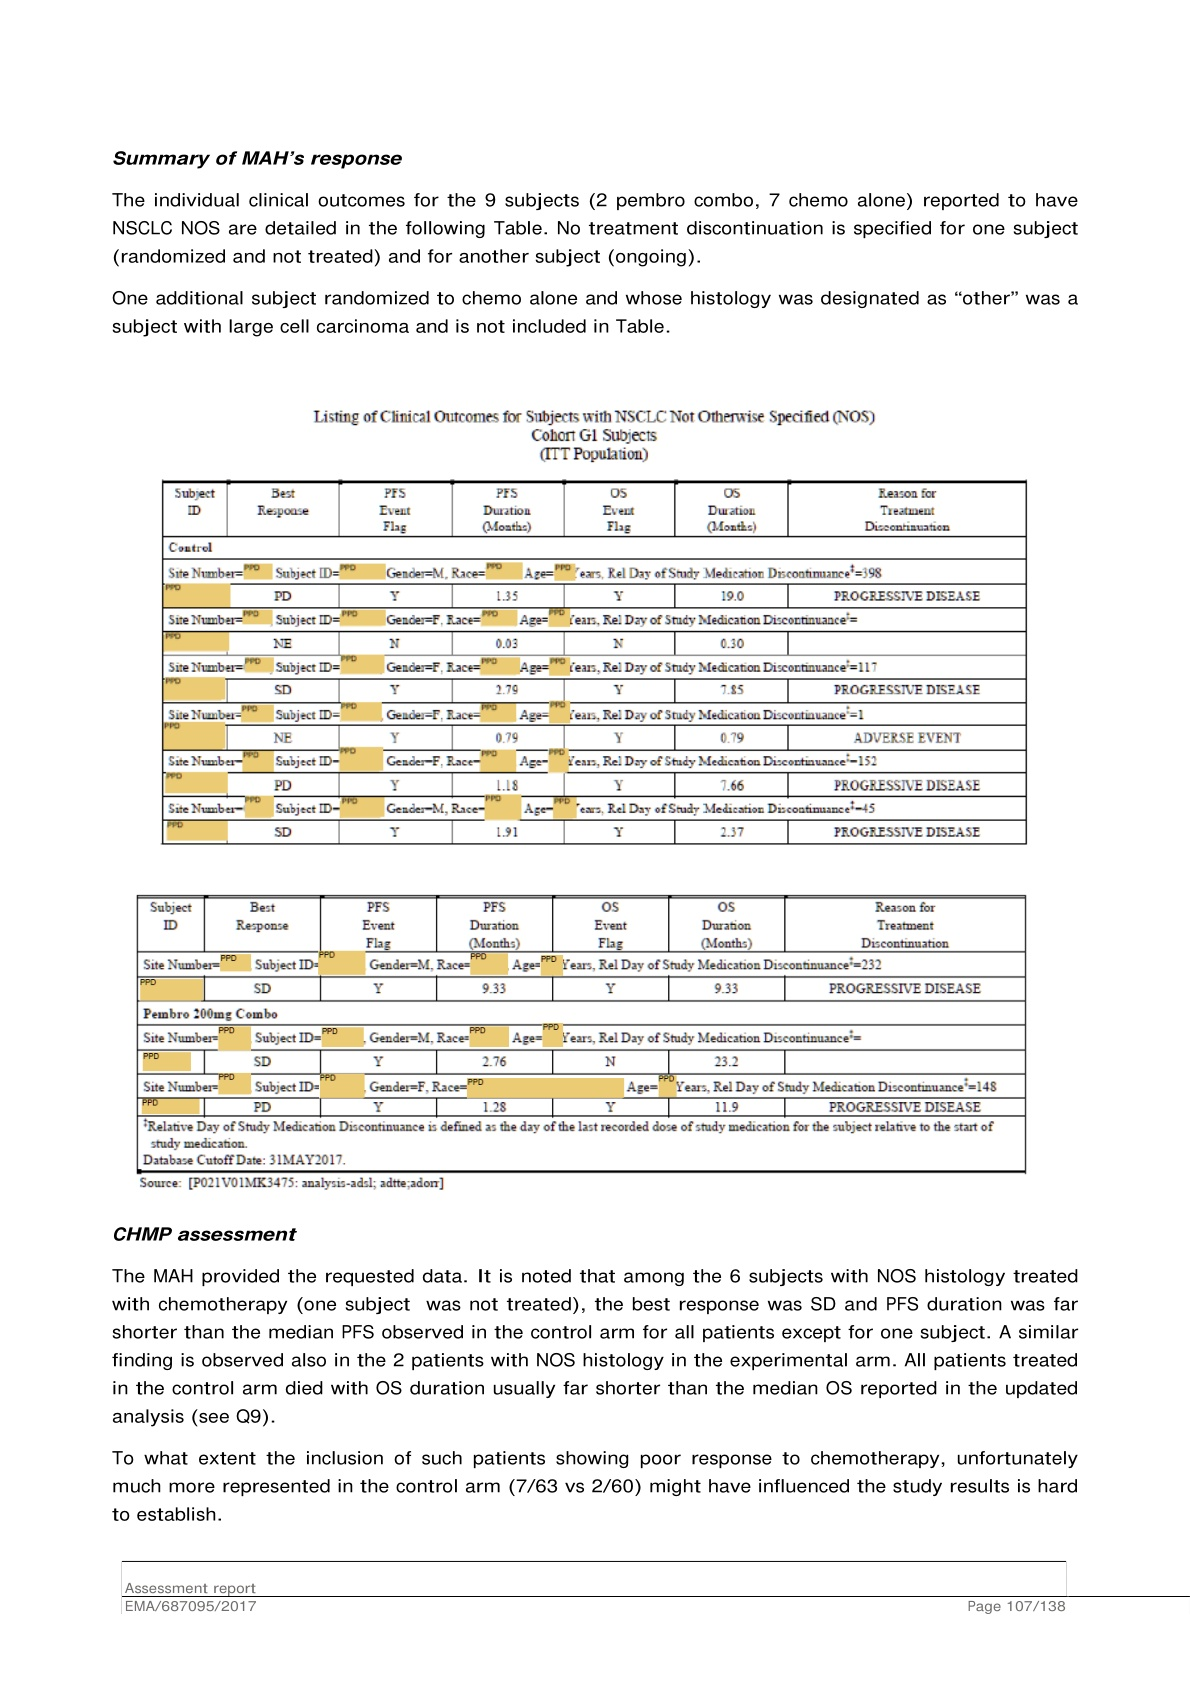merged_cells: (161, 478, 1029, 847), (135, 893, 1028, 1176)
